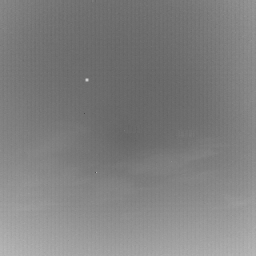Target: (84, 76, 90, 83)
